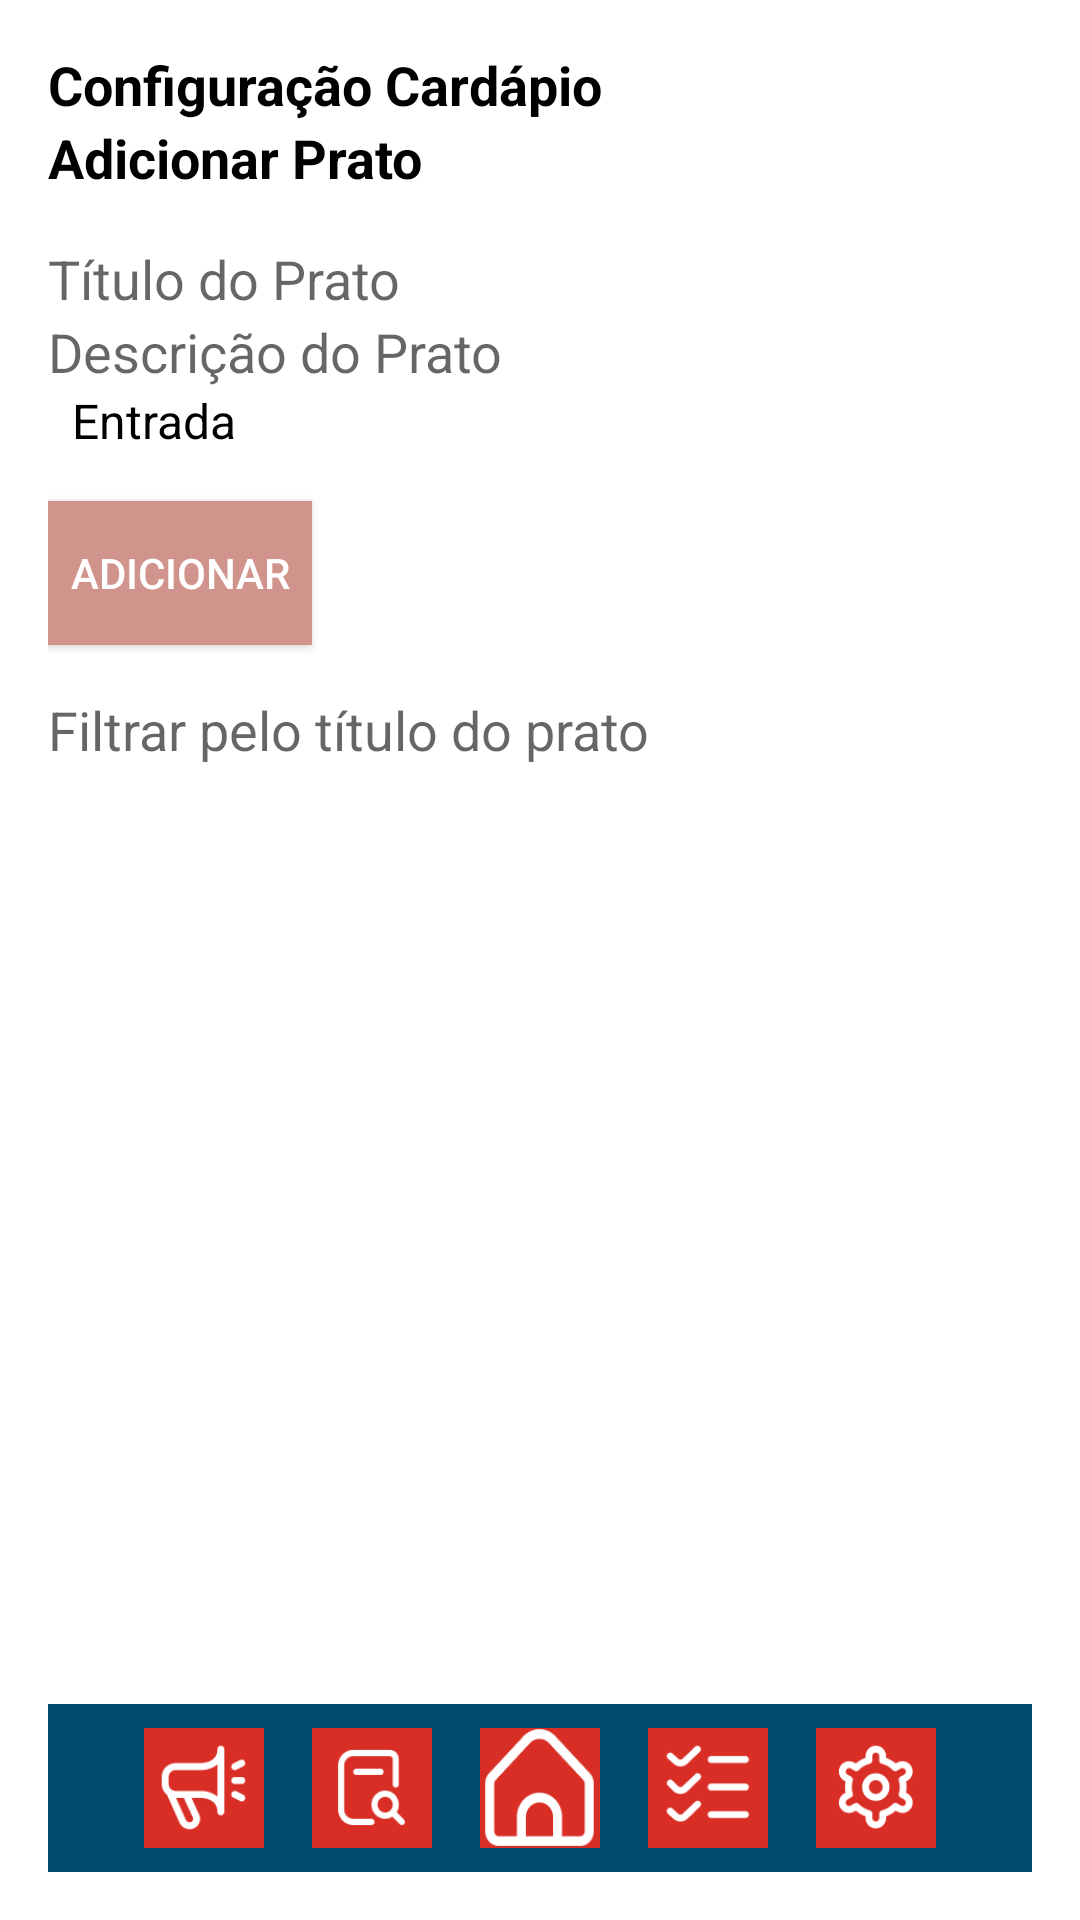

Point at icon controls on the screen. Image size 1080*1920, points as point (x, y).
configuracao cardapio: point (876, 1788)
feedback: point (204, 1788)
feedback pendente: point (372, 1788)
home: point (540, 1788)
lista afazeres: point (708, 1788)
